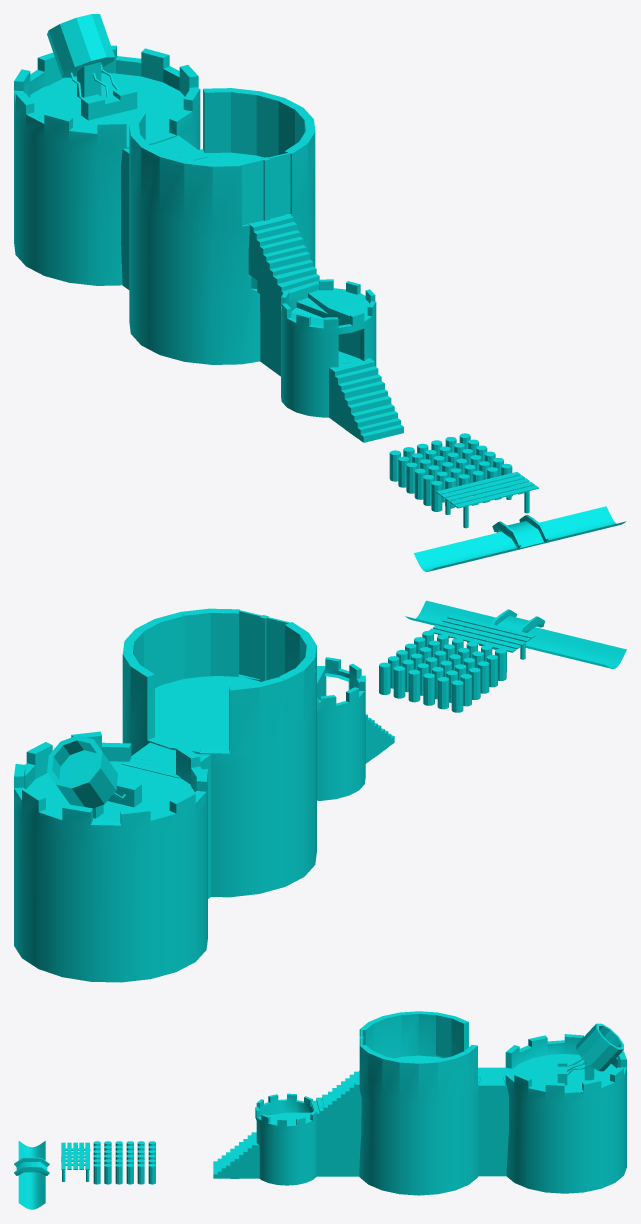
File: level design.fbx
3 renders of one model, top to bottom at view 1: azimuth 30°, elevation 25°; view 2: azimuth 150°, elevation 25°; view 3: azimuth 270°, elevation 25°, orthographic. The views are drawn at different scales.
Parts seen in each view (by area): view 1: pCylinder12, pCylinder13, pCylinder11, pDisc2, pPlane1, pCylinder14, pCube36, pCube32, pCube33, pCube34, pCube1; view 2: pCylinder13, pCylinder12, pCylinder11, pDisc1, pCylinder14, pDisc2, pPlane1, pCube36, pCube34, pCube33, pCube1, pCube39; view 3: pCylinder12, pCylinder13, pCylinder11, pCube36, pCube32, pDisc2, pCylinder14, pPlane1, pCube1, pCube20, pCube22.
Part boxes in pixels (x1,y1,x2,y2): pCylinder12: [129, 88, 315, 364]; pCylinder13: [14, 45, 200, 285]; pCylinder11: [281, 279, 376, 417]; pDisc2: [30, 73, 184, 141]; pPlane1: [414, 506, 626, 571]; pCylinder14: [47, 14, 114, 77]; pCube36: [121, 131, 207, 289]; pCube32: [257, 280, 319, 376]; pCube33: [241, 159, 263, 225]; pCube34: [268, 152, 291, 218]; pCube1: [492, 514, 548, 548]; pCylinder13: [14, 731, 207, 982]; pCylinder12: [122, 608, 316, 897]; pCylinder11: [317, 657, 365, 800]; pDisc1: [155, 676, 259, 749]; pCylinder14: [47, 735, 117, 808]; pDisc2: [27, 761, 194, 821]; pPlane1: [405, 600, 626, 668]; pCube36: [121, 736, 210, 898]; pCube34: [237, 610, 261, 681]; pCube33: [266, 617, 290, 680]; pCube1: [490, 609, 545, 640]; pCube39: [116, 780, 141, 807]; pCylinder12: [358, 1011, 480, 1195]; pCylinder13: [502, 1034, 626, 1193]; pCylinder11: [255, 1093, 317, 1185]; pCube36: [478, 1067, 515, 1176]; pCube32: [316, 1118, 361, 1176]; pDisc2: [515, 1054, 616, 1090]; pCylinder14: [576, 1023, 623, 1071]; pPlane1: [18, 1141, 45, 1209]; pCube1: [14, 1157, 49, 1175]; pCube20: [251, 1132, 259, 1178]; pCube22: [354, 1071, 361, 1117].
Size of the model in its own units: 32.13 by 35.63 by 133.
